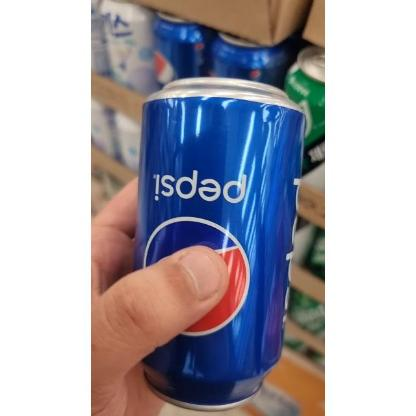Can: (134, 75, 306, 413)
